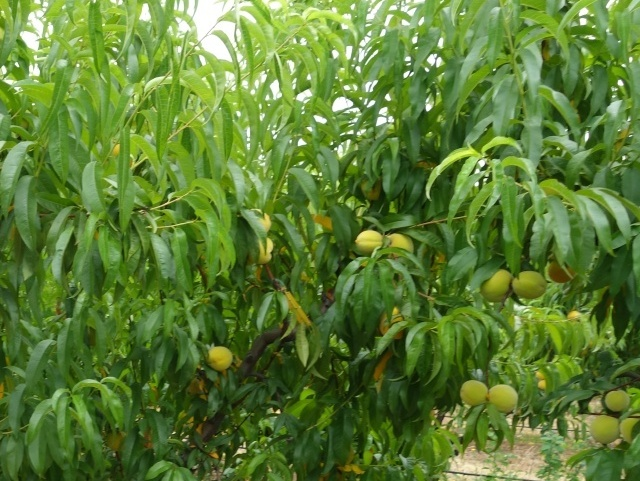peach: (482, 381, 523, 417), (508, 266, 549, 300), (456, 376, 493, 410), (588, 410, 623, 445), (383, 228, 417, 262), (480, 266, 514, 300), (376, 306, 406, 344), (602, 383, 632, 419), (204, 341, 235, 373), (353, 225, 384, 256), (614, 409, 639, 447), (251, 238, 278, 269)
